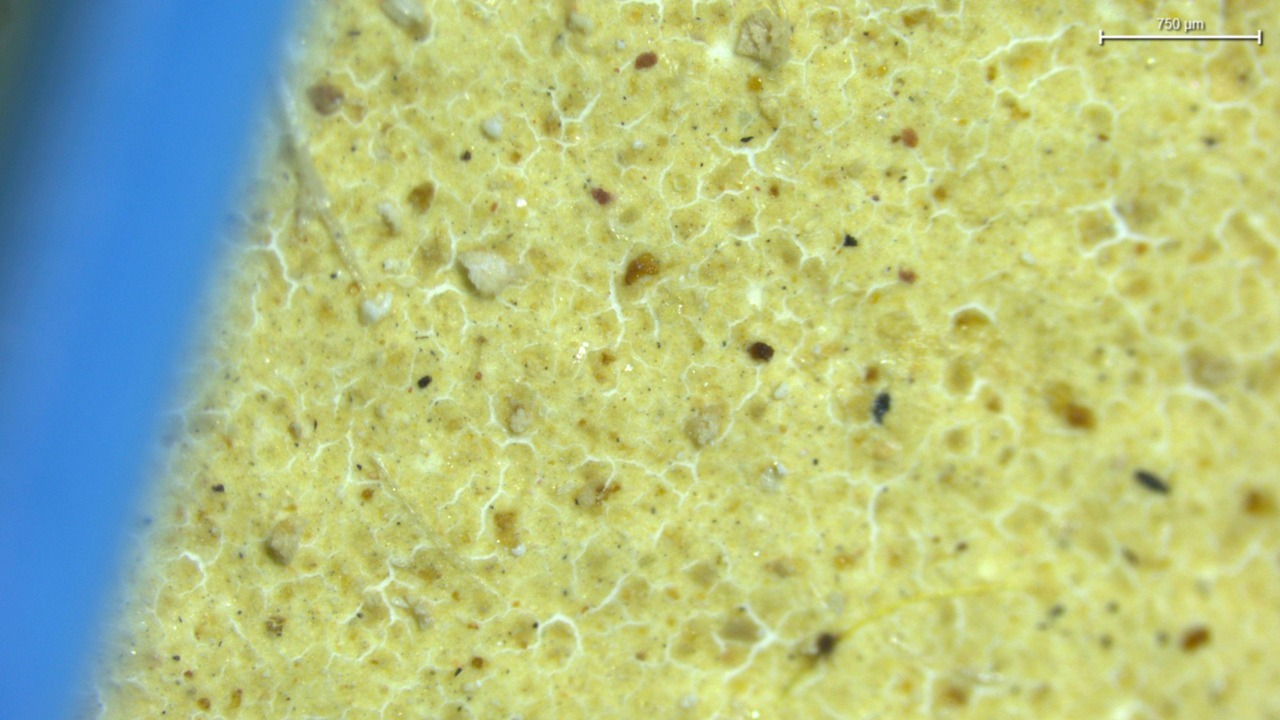microplastic_fragment: (460, 251, 518, 295)
